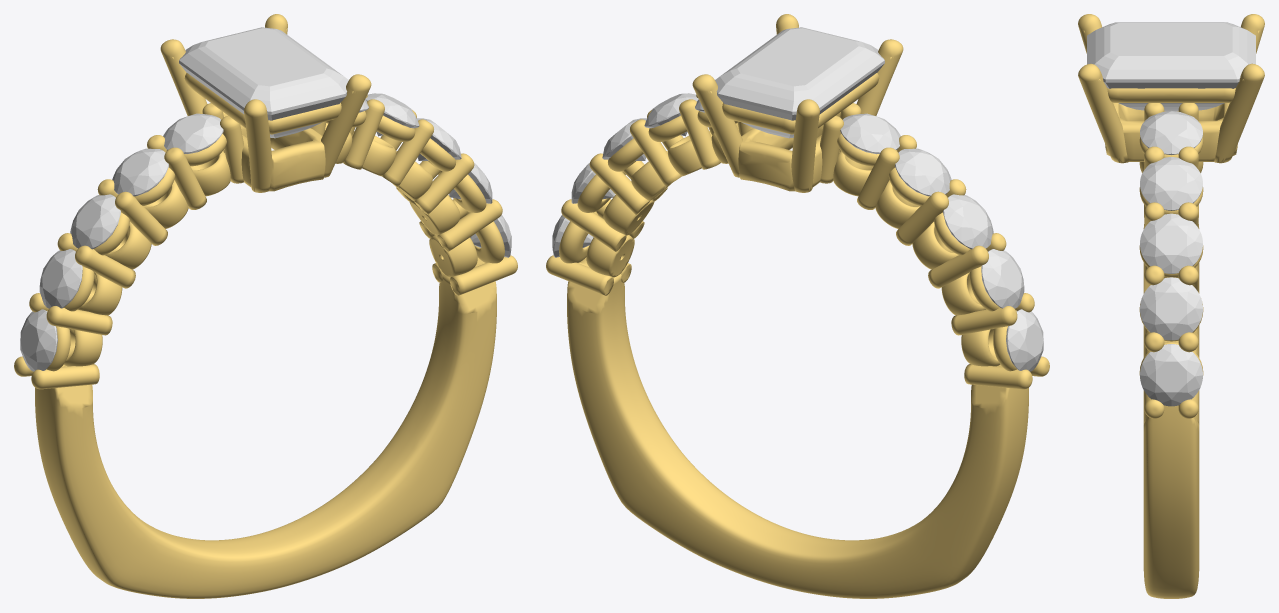
The model's file is diamond-emerald-yellowgold-4prong-europeanshank-11stone.glb.
3 views of the same model, side by side, from view 1: azimuth 30°, elevation 25°; view 2: azimuth 150°, elevation 25°; view 3: azimuth 270°, elevation 25° (orthographic).
Parts seen in each view (by area): view 1: metal, stone, side.004, side.005, side.003, side, side.006, side.010; view 2: metal, stone, side.004, side.005, side.003, side, side.006, side.010; view 3: metal, stone, side.008, side.007, side.009, side.010, side.011.
Part boxes in pixels (x1=…): metal: x1=14, y1=14, x2=517, y2=598; stone: x1=179, y1=27, x2=348, y2=138; side.004: x1=70, y1=194, x2=120, y2=249; side.005: x1=112, y1=148, x2=168, y2=196; side.003: x1=39, y1=249, x2=82, y2=308; side: x1=20, y1=309, x2=57, y2=371; side.006: x1=163, y1=113, x2=223, y2=154; side.010: x1=365, y1=93, x2=419, y2=136; metal: x1=546, y1=14, x2=1049, y2=598; stone: x1=715, y1=27, x2=884, y2=138; side.004: x1=943, y1=194, x2=993, y2=249; side.005: x1=895, y1=148, x2=951, y2=196; side.003: x1=981, y1=249, x2=1024, y2=308; side: x1=1006, y1=309, x2=1043, y2=371; side.006: x1=840, y1=113, x2=900, y2=154; side.010: x1=644, y1=93, x2=698, y2=136; metal: x1=1078, y1=14, x2=1264, y2=598; stone: x1=1087, y1=22, x2=1255, y2=111; side.008: x1=1140, y1=277, x2=1202, y2=340; side.007: x1=1140, y1=344, x2=1202, y2=406; side.009: x1=1140, y1=213, x2=1202, y2=273; side.010: x1=1140, y1=157, x2=1202, y2=210; side.011: x1=1140, y1=110, x2=1202, y2=154.
Bounding box in the file's own units: 21.87 × 22.75 × 7.4.
